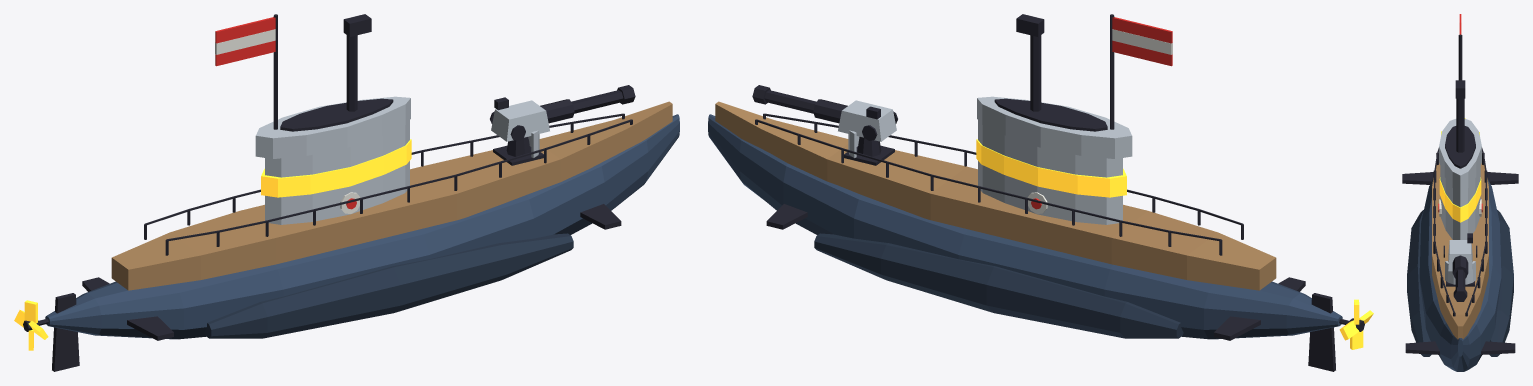
The model's file is uboat.glb.
3 views of the same model, side by side, from view 1: azimuth 30°, elevation 25°; view 2: azimuth 150°, elevation 25°; view 3: azimuth 270°, elevation 25° (orthographic). The views are drawn at different scales.
Visible parts, largest first — view 1: Hull, GunBarrel, GunRecoil, Periscope, Rudder, Gun, SternPlanes, FlagCloth3, Propeller, FlagCloth2, FlagCloth1, BowPlanes; view 2: Hull, GunBarrel, GunRecoil, Periscope, Rudder, Gun, SternPlanes, FlagCloth3, Propeller, FlagCloth2, FlagCloth1, BowPlanes; view 3: Hull, BowPlanes, SternPlanes, Periscope, GunBarrel, GunRecoil, Gun, Flag.
Part boxes in pixels (x1,y1,x2,y2): Hull: (38, 96, 679, 339); GunBarrel: (490, 97, 549, 141); GunRecoil: (540, 85, 635, 123); Periscope: (343, 14, 371, 111); Rudder: (52, 293, 79, 371); Gun: (493, 130, 543, 165); SternPlanes: (82, 277, 173, 340); FlagCloth3: (215, 26, 237, 66); Propeller: (14, 300, 48, 350); FlagCloth2: (236, 21, 256, 61); FlagCloth1: (256, 17, 275, 56); BowPlanes: (580, 204, 621, 229); Hull: (708, 96, 1349, 339); GunBarrel: (838, 100, 897, 141); GunRecoil: (752, 85, 847, 123); Periscope: (1016, 14, 1044, 111); Rudder: (1308, 293, 1335, 371); Gun: (844, 130, 894, 165); SternPlanes: (1214, 277, 1305, 340); FlagCloth3: (1151, 26, 1172, 66); Propeller: (1339, 299, 1373, 349); FlagCloth2: (1131, 21, 1151, 61); FlagCloth1: (1112, 17, 1131, 56); BowPlanes: (766, 204, 807, 229); Hull: (1407, 119, 1513, 371); BowPlanes: (1405, 341, 1515, 354); SternPlanes: (1402, 172, 1518, 184); Periscope: (1455, 80, 1465, 152); GunBarrel: (1443, 233, 1477, 271); GunRecoil: (1452, 255, 1468, 301); Gun: (1445, 261, 1475, 286); Flag: (1458, 34, 1462, 80).
Bounding box in the file's own units: 1.8 × 0.8022 × 0.36.
